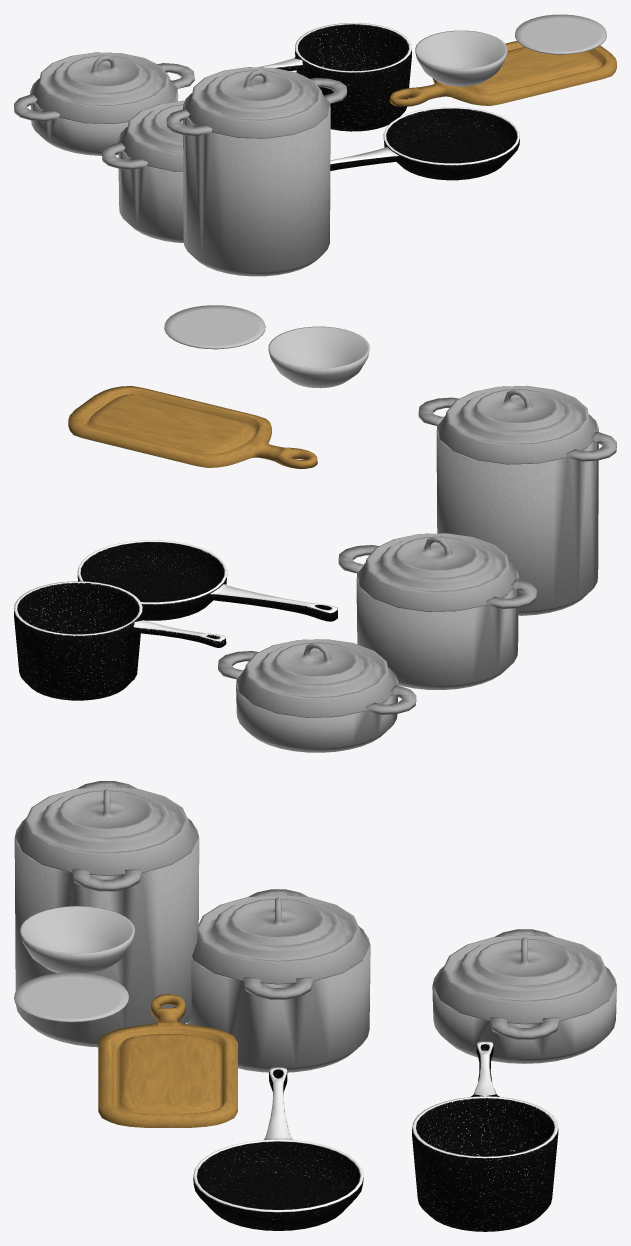
The picture shows the model from 3 angles, top to bottom: view 1: azimuth 30°, elevation 25°; view 2: azimuth 150°, elevation 25°; view 3: azimuth 270°, elevation 25°; orthographic projection. The views are drawn at different scales.
Visible parts, largest first — view 1: cookingpot.002_3, pan_10, stove_5, cookingpotpot.002_2, cookingpotpot.001_0, cuttingboard_4, cookingpot_8, bowl_9, cookingpot.001_1, cookingpotpot_7, plate_6; view 2: cookingpot.002_3, pan_10, cookingpot_8, cuttingboard_4, stove_5, cookingpotpot_7, cookingpotpot.001_0, cookingpotpot.002_2, cookingpot.001_1, bowl_9, plate_6; view 3: cookingpot.002_3, pan_10, cookingpot_8, cuttingboard_4, stove_5, cookingpotpot.001_0, cookingpotpot.002_2, cookingpotpot_7, cookingpot.001_1, bowl_9, plate_6.
Part boxes in pixels (x1,y1,x2,y2): cookingpot.002_3: (166,77,346,276); pan_10: (258,23,411,131); stove_5: (330,107,519,180); cookingpotpot.002_2: (184,67,329,138); cookingpotpot.001_0: (31,52,177,123); cuttingboard_4: (390,41,616,106); cookingpot_8: (102,126,183,243); bowl_9: (415,30,507,86); cookingpot.001_1: (14,63,194,155); cookingpotpot_7: (119,100,184,171); plate_6: (515,14,606,54); cookingpot.002_3: (418,397,616,615); pan_10: (14,581,226,700); cookingpot_8: (338,545,536,689); cuttingboard_4: (68,386,317,468); stove_5: (77,540,337,621); cookingpotpot_7: (357,533,517,611); cookingpotpot.001_0: (237,639,396,717); cookingpotpot.002_2: (437,385,597,464); cookingpot.001_1: (218,651,416,752); bowl_9: (268,326,369,388); plate_6: (164,305,265,349); cookingpot.002_3: (14,781,199,1047); pan_10: (412,1041,558,1231); cookingpot_8: (187,889,370,1072); cuttingboard_4: (98,994,237,1127); stove_5: (193,1067,363,1230); cookingpotpot.001_0: (433,934,616,1024); cookingpotpot.002_2: (15,786,198,875); cookingpotpot_7: (192,894,369,984); cookingpot.001_1: (432,929,616,1063); bowl_9: (20,906,134,974); plate_6: (14,972,128,1022).
Size of the model in its own units: 13.66 by 6.07 by 12.54.
